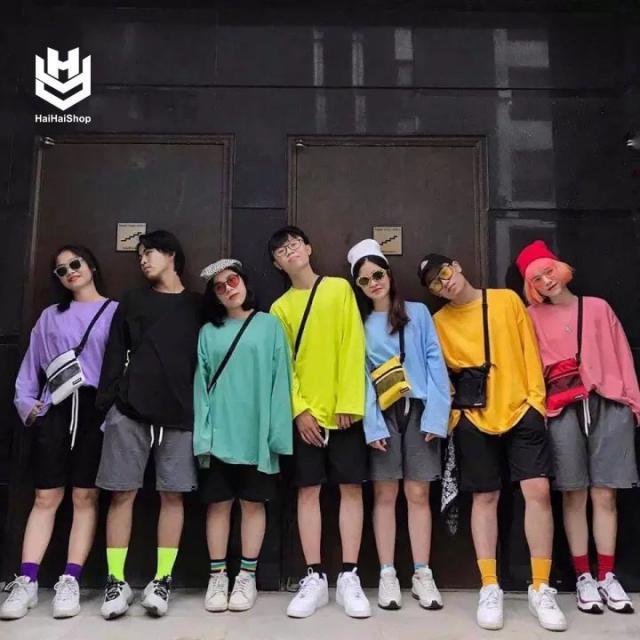Shirt: (92, 280, 220, 433), (428, 286, 552, 438), (190, 306, 296, 476), (11, 293, 136, 427), (519, 288, 639, 421), (268, 274, 368, 428), (361, 298, 457, 448)
